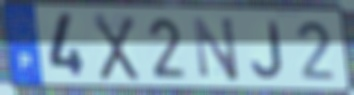2: (146, 16, 190, 81), (294, 19, 338, 82)
4: (46, 10, 92, 84)
J: (249, 19, 286, 81)
N: (190, 14, 242, 83)
X: (91, 11, 141, 84)
